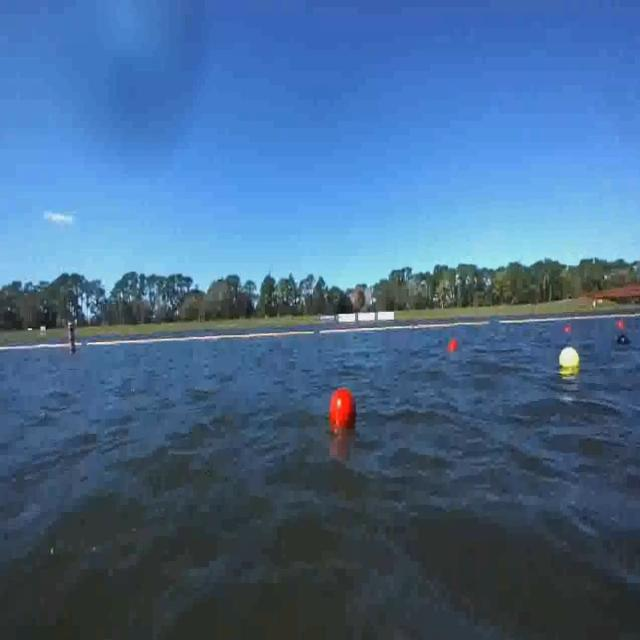black-buoy: (618, 336, 631, 347)
red-buoy: (332, 388, 357, 429), (448, 340, 457, 354), (565, 328, 572, 335)
yellow-buoy: (560, 346, 580, 371)
